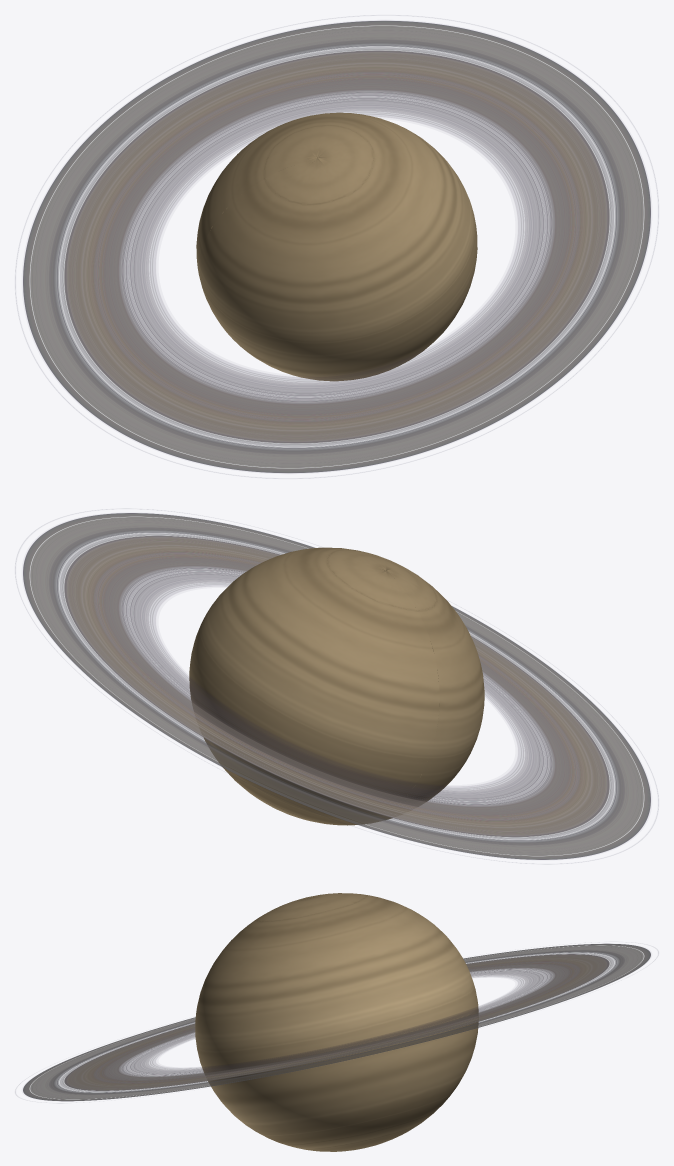
File: saturn.glb
3 renders of one model, top to bottom at view 1: azimuth 30°, elevation 25°; view 2: azimuth 150°, elevation 25°; view 3: azimuth 270°, elevation 25°, orthographic. The views are drawn at different scales.
Visible parts, largest first — view 1: Rings, Saturn; view 2: Rings, Saturn; view 3: Saturn, Rings.
Boxes of the visible parts, box(x1,y1,x2,y2) form: Rings: box(23, 20, 650, 473); Saturn: box(196, 112, 477, 381); Rings: box(23, 513, 650, 859); Saturn: box(189, 547, 484, 825); Saturn: box(195, 893, 478, 1151); Rings: box(23, 943, 650, 1101).
Bounding box in the file's own units: 4.43 × 1.83 × 4.53.
2 materials, 2 textured.
